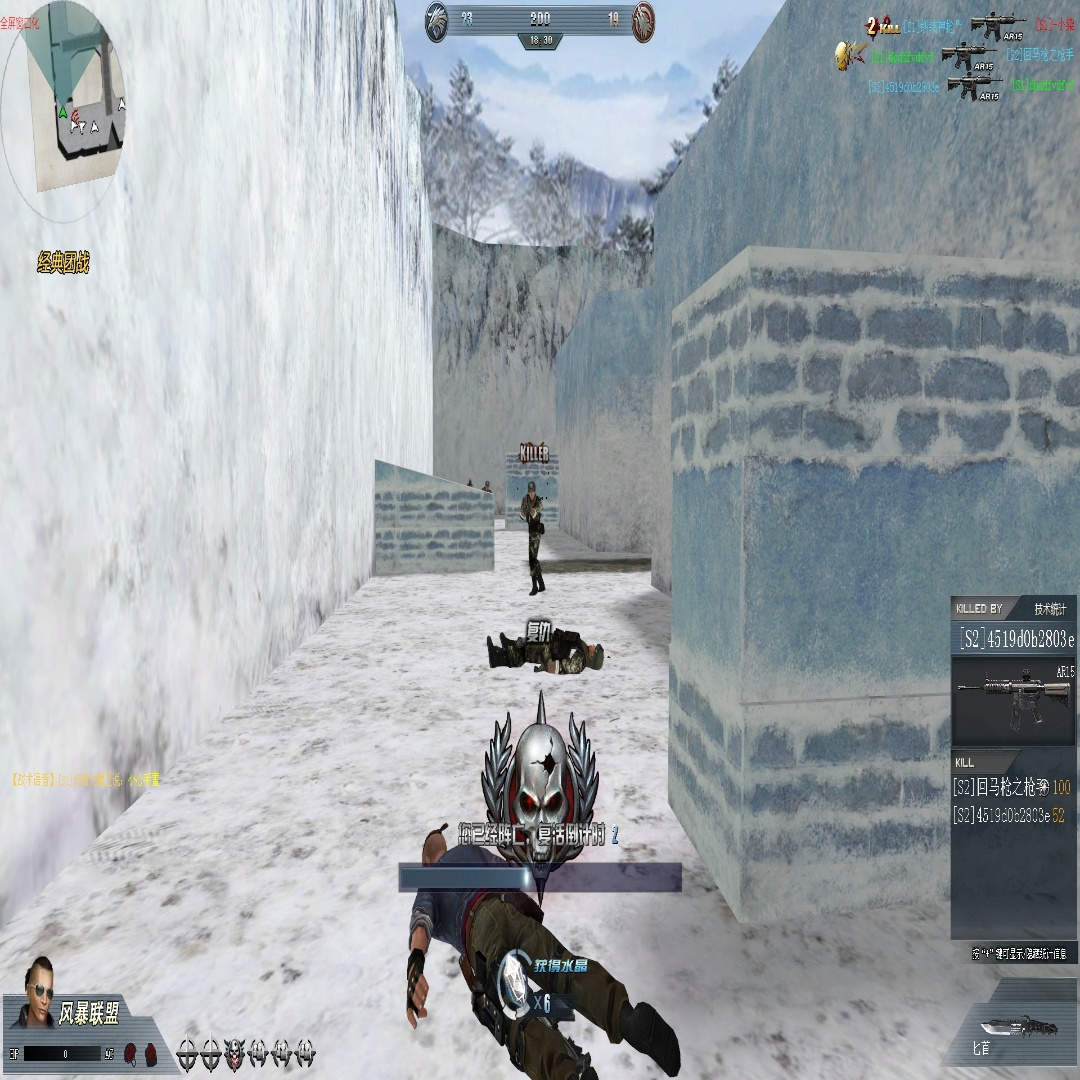ct: (522, 477, 546, 596)
